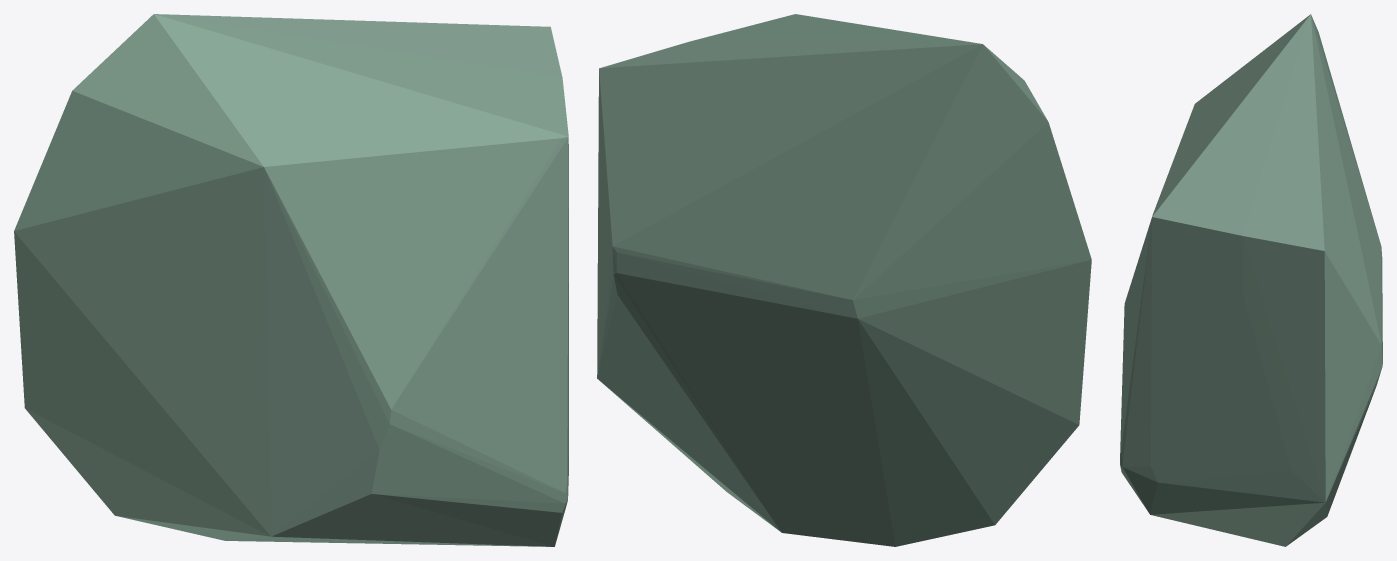
The model's file is device_blood_pressure_monitor_a01.glb.
3 views of the same model, side by side, from view 1: azimuth 30°, elevation 25°; view 2: azimuth 150°, elevation 25°; view 3: azimuth 270°, elevation 25° (orthographic). The views are drawn at different scales.
Parts seen in each view (by area): view 1: geometry_0; view 2: geometry_0; view 3: geometry_0.
Boxes of the visible parts, left/top/right/bottom form: geometry_0: left=14, top=14, right=568, bottom=546; geometry_0: left=597, top=14, right=1091, bottom=546; geometry_0: left=1120, top=14, right=1382, bottom=546.
Bounding box in the file's own units: 0.4538 × 0.4618 × 0.2575.
